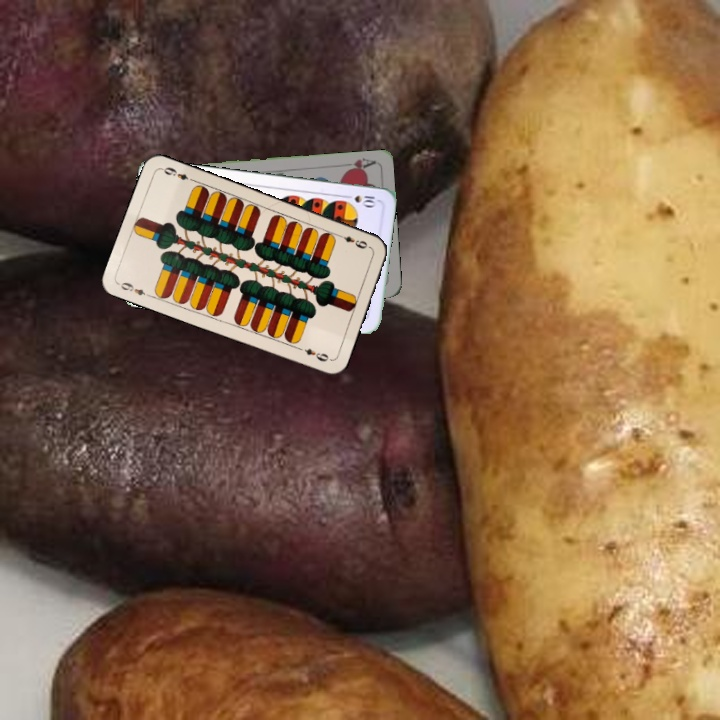E9: (115, 278, 154, 300), (334, 231, 373, 251)
HA: (337, 154, 377, 175)
S10: (340, 191, 380, 209)
